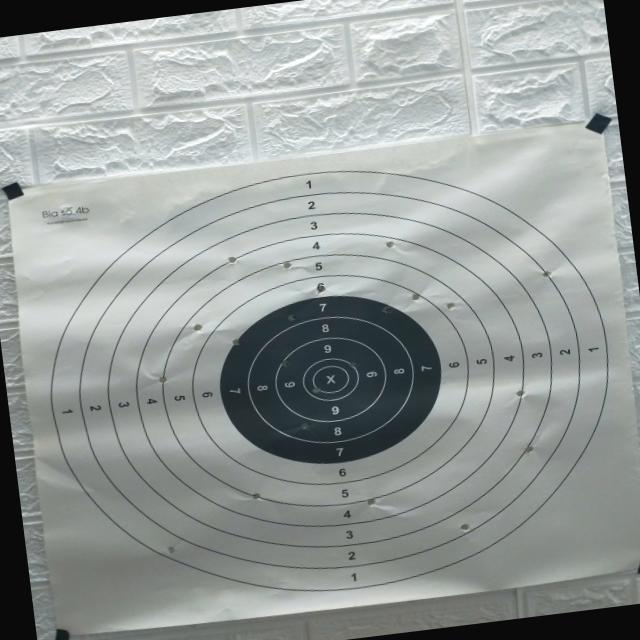bullet: (382, 306, 396, 313), (227, 256, 237, 264), (523, 445, 533, 453), (460, 523, 470, 531), (300, 422, 310, 430), (411, 292, 420, 300), (446, 302, 455, 310), (192, 323, 201, 331), (158, 376, 167, 384), (542, 270, 551, 278), (311, 386, 321, 393), (315, 286, 325, 292), (283, 261, 291, 268), (287, 313, 295, 320), (367, 498, 375, 505), (167, 546, 175, 553), (281, 359, 289, 366), (251, 493, 260, 499), (348, 361, 357, 367), (516, 390, 523, 397), (386, 241, 394, 247), (231, 339, 239, 345)
target: (9, 123, 640, 640)
